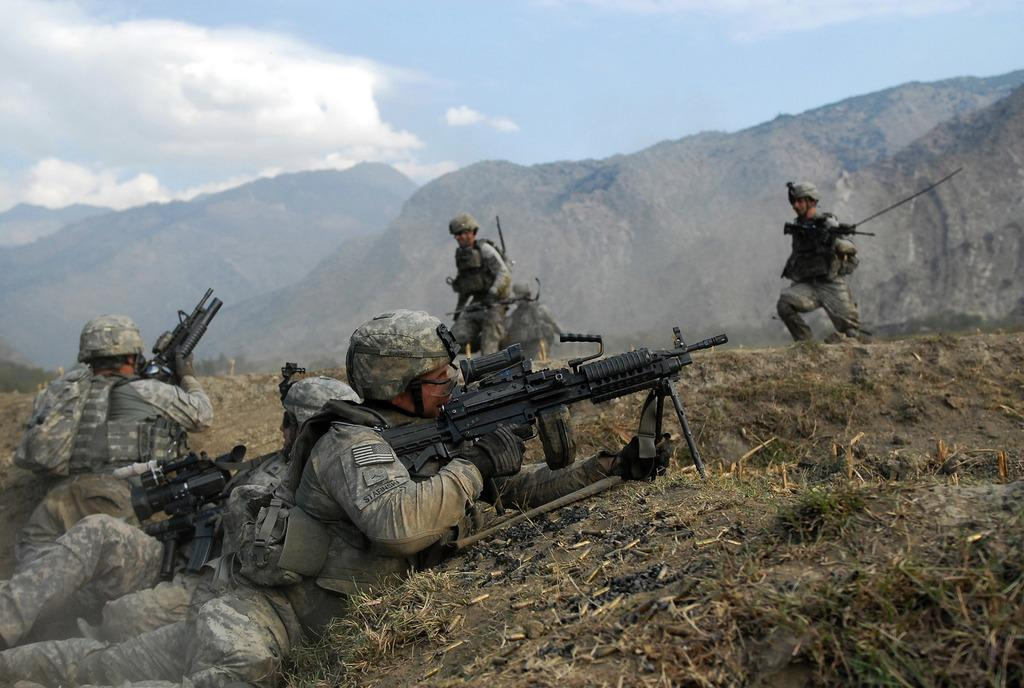Rifle: (360, 324, 737, 522), (125, 449, 279, 580), (138, 285, 221, 445), (781, 215, 880, 268), (444, 289, 531, 315)
